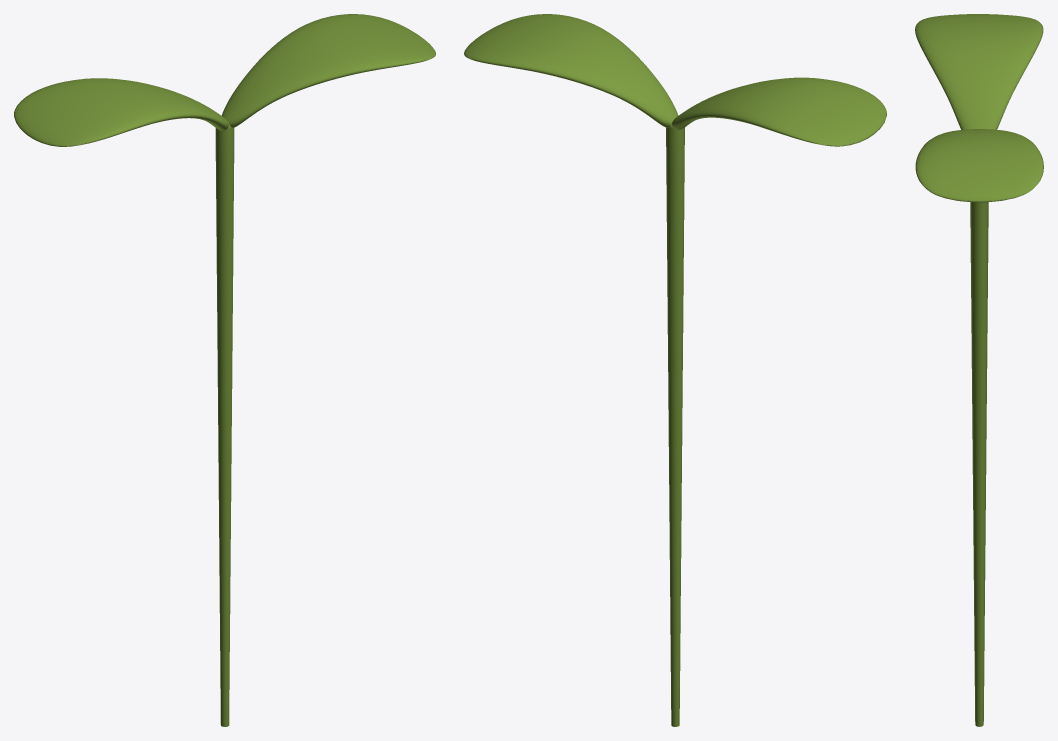
File: Hennepplant_AR_004.gltf
The picture shows the model from 3 angles, left to right: view 1: azimuth 30°, elevation 25°; view 2: azimuth 150°, elevation 25°; view 3: azimuth 270°, elevation 25°; orthographic projection. The views are drawn at different scales.
Parts seen in each view (by area): view 1: Plane.001, Plane, Cylinder; view 2: Plane.001, Plane, Cylinder; view 3: Plane, Plane.001, Cylinder.
Boxes of the visible parts, x1,y1,x2,y2 form: Plane.001: (221,14,435,127); Plane: (14,78,228,146); Cylinder: (215,122,234,726); Plane.001: (464,14,678,127); Plane: (672,77,886,146); Cylinder: (666,122,684,726); Plane: (915,14,1043,129); Plane.001: (915,129,1043,202); Cylinder: (970,202,988,726).
Size of the model in its own units: 2.76 by 4.38 by 0.8072.
